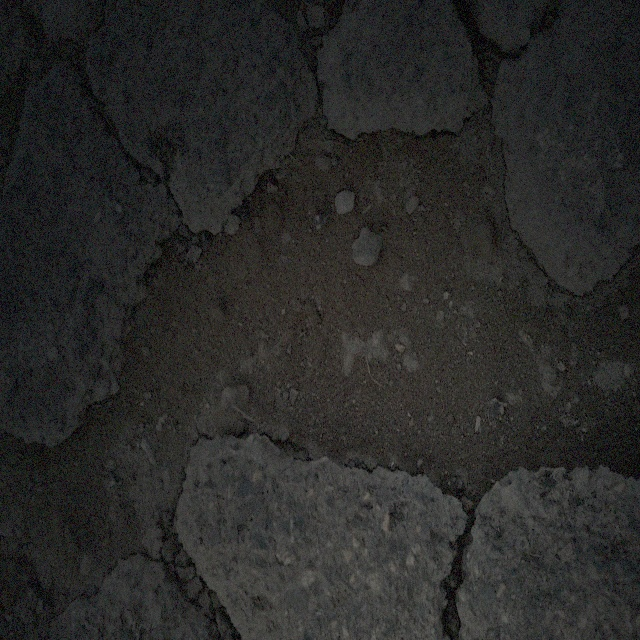pothole: (107, 80, 620, 548)
